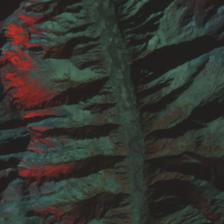landslides: (193, 58, 209, 75)
